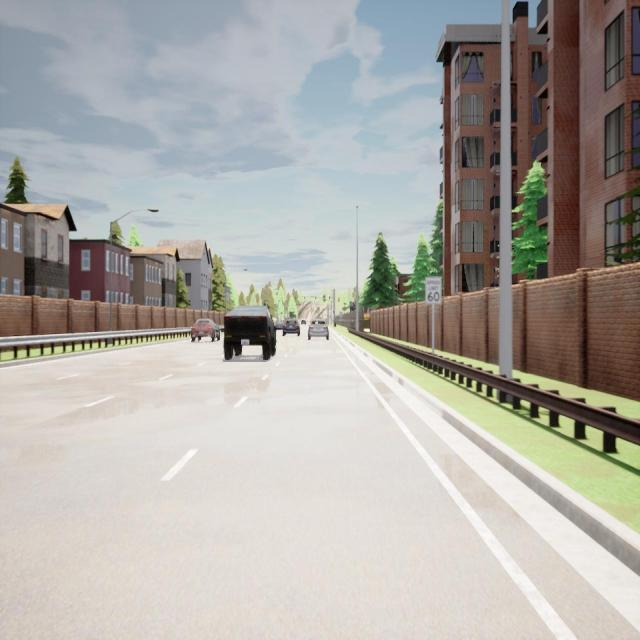Traffic_Signs: (426, 277, 442, 303)
Vehicle: (224, 305, 276, 361), (190, 318, 220, 342), (308, 320, 329, 340), (282, 318, 300, 337), (275, 320, 282, 330), (301, 320, 306, 326)
traffic_light: (304, 296, 306, 300), (315, 296, 316, 300)
